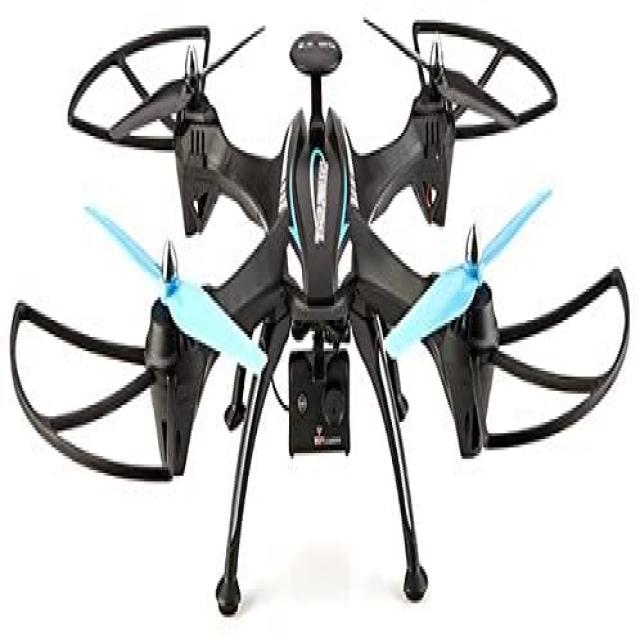drone: (0, 0, 640, 574)
